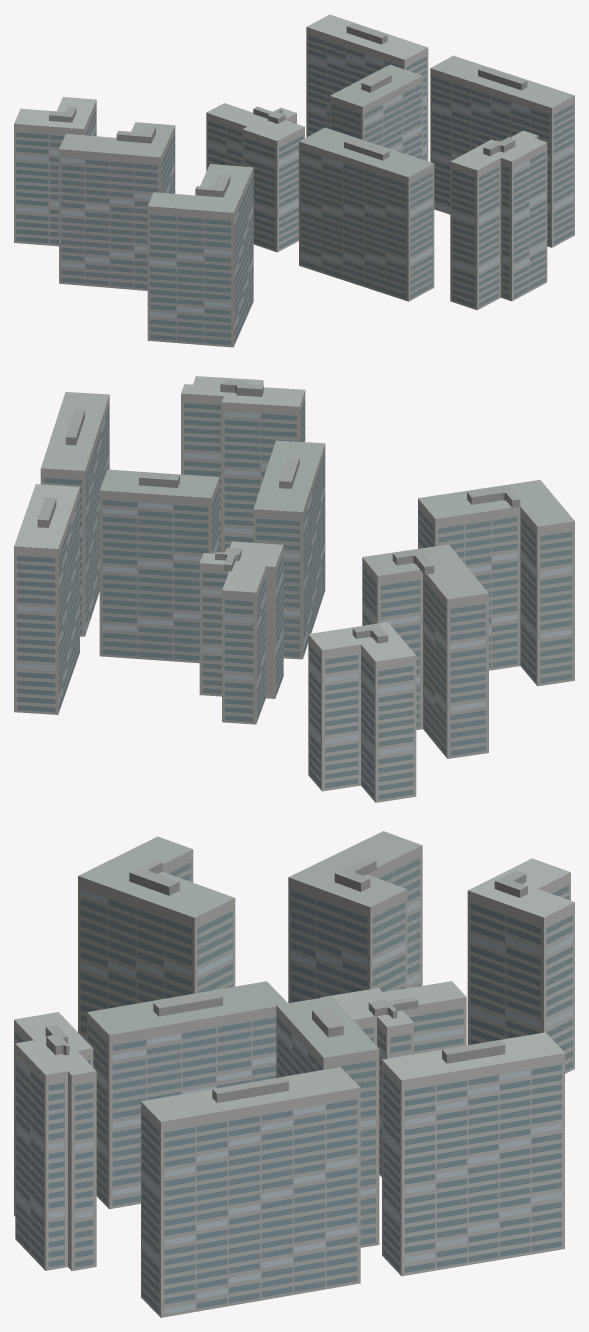
File: apt-a13615002.glb
3 renders of one model, top to bottom at view 1: azimuth 30°, elevation 25°; view 2: azimuth 150°, elevation 25°; view 3: azimuth 270°, elevation 25°, orthographic. The views are drawn at different scales.
Parts seen in each view (by area): view 1: apt-a13615002; view 2: apt-a13615002; view 3: apt-a13615002.
Part boxes in pixels (<box>): apt-a13615002: <box>14,14,574,347</box>; apt-a13615002: <box>14,376,574,802</box>; apt-a13615002: <box>14,831,574,1317</box>.
Bounding box in the file's own units: 169 × 54 × 134.
